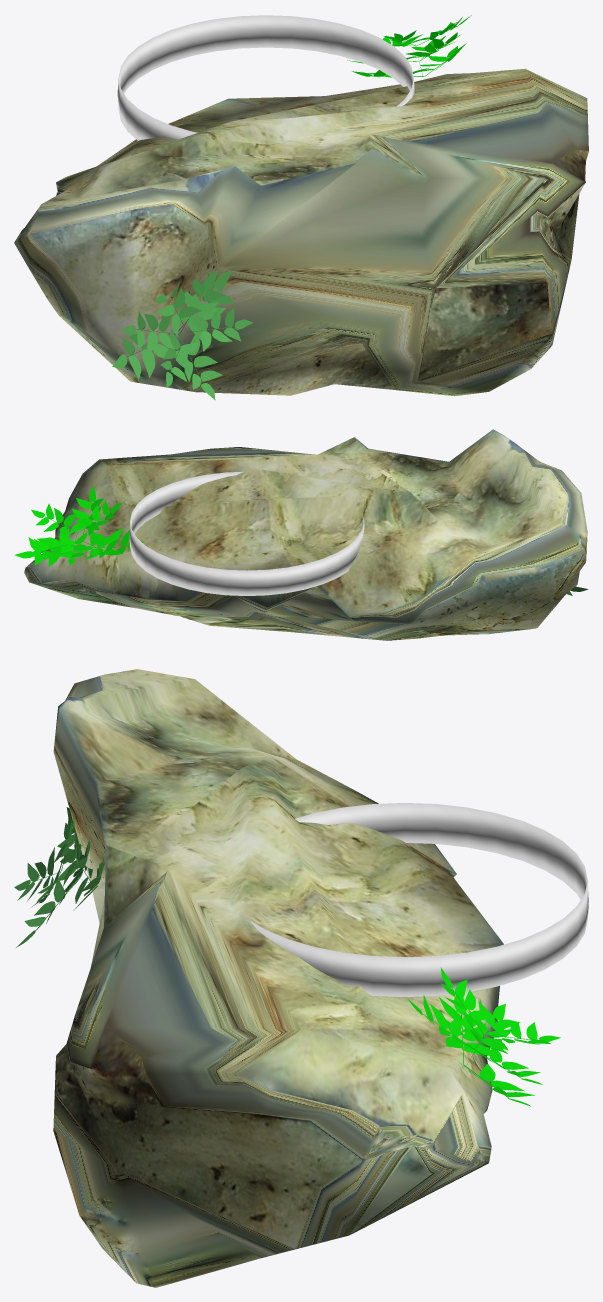
The model's file is static_rock_small.fbx.
The picture shows the model from 3 angles, top to bottom: view 1: azimuth 30°, elevation 25°; view 2: azimuth 150°, elevation 25°; view 3: azimuth 270°, elevation 25°; orthographic projection. The views are drawn at different scales.
Parts seen in each view (by area): view 1: VMtl01_VMtl01, Torus, plant, plant.008; view 2: VMtl01_VMtl01, Torus, plant.008; view 3: VMtl01_VMtl01, Torus, plant.008, plant.
Part boxes in pixels (left/top/right/bottom): VMtl01_VMtl01: left=14, top=68, right=588, bottom=396; Torus: left=117, top=15, right=414, bottom=140; plant: left=112, top=270, right=253, bottom=400; plant.008: left=347, top=15, right=471, bottom=77; VMtl01_VMtl01: left=24, top=429, right=587, bottom=640; Torus: left=129, top=471, right=364, bottom=595; plant.008: left=14, top=486, right=143, bottom=566; VMtl01_VMtl01: left=53, top=669, right=503, bottom=1287; Torus: left=250, top=803, right=588, bottom=996; plant.008: left=407, top=967, right=560, bottom=1106; plant: left=14, top=807, right=104, bottom=947.
Size of the model in its own units: 2.33 by 1.13 by 1.56.
Materials: 3 (1 with a texture image).
